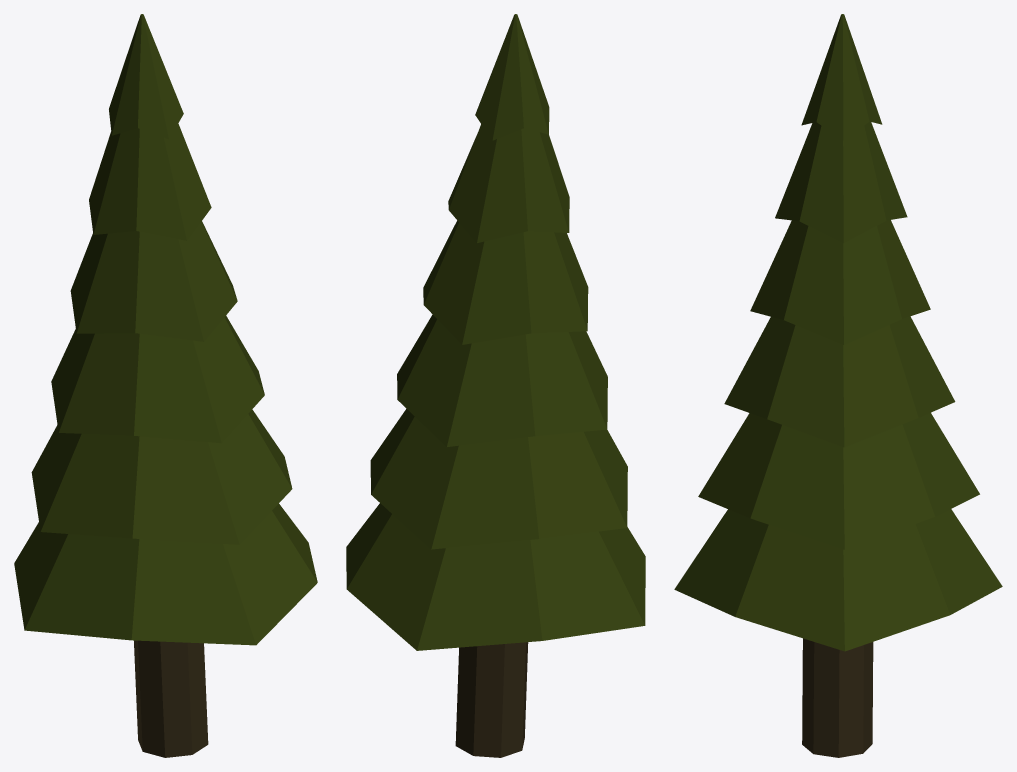
Rendered from Pine_Tree.fbx.
3 renders of one model, left to right at view 1: azimuth 30°, elevation 25°; view 2: azimuth 150°, elevation 25°; view 3: azimuth 270°, elevation 25°, orthographic. The views are drawn at different scales.
Parts seen in each view (by area): view 1: polySurface56; view 2: polySurface56; view 3: polySurface56.
Part boxes in pixels (x1,y1,x2,y2): polySurface56: (14, 14, 317, 757); polySurface56: (346, 14, 645, 757); polySurface56: (674, 14, 1002, 757).
Size of the model in its own units: 208 by 501 by 208.
